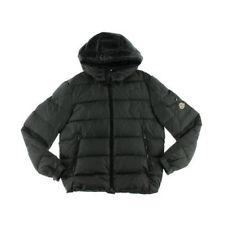C_jacket: (19, 26, 206, 196)
